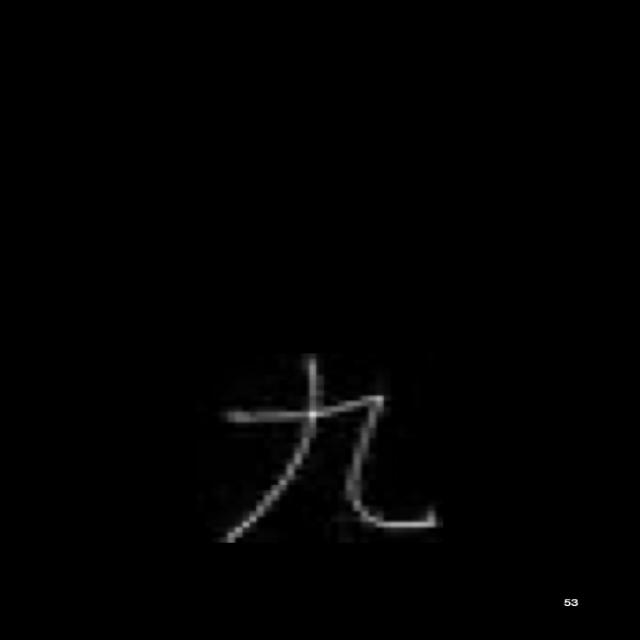9 -nine-: (205, 350, 448, 549)
